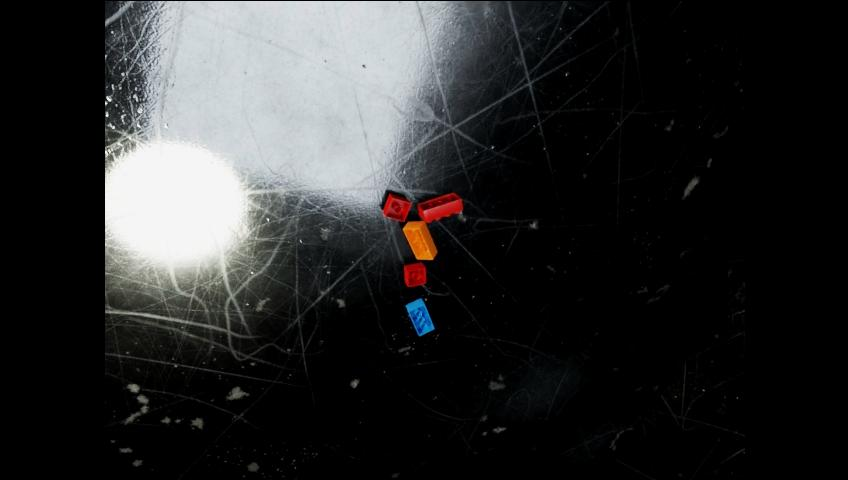2x2_red: (380, 192, 411, 221), (405, 262, 425, 287)
4x2_blue: (406, 298, 434, 336)
4x2_orange: (404, 221, 437, 258)
4x2_red: (418, 193, 462, 223)
